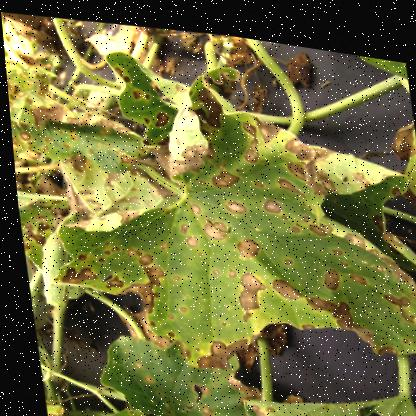AlternariaBrassicicola: (300, 279, 373, 347), (183, 324, 249, 369), (228, 259, 265, 317), (109, 272, 151, 312), (372, 277, 415, 314), (52, 259, 95, 288), (263, 264, 299, 296), (269, 165, 307, 193), (229, 226, 264, 255), (205, 158, 239, 185), (173, 214, 197, 244), (314, 254, 339, 282), (137, 260, 162, 285), (198, 211, 226, 233), (218, 189, 246, 210), (255, 187, 283, 208), (144, 101, 169, 124), (131, 245, 151, 264), (342, 259, 364, 276), (304, 212, 326, 228), (275, 245, 293, 259), (13, 129, 32, 142), (183, 195, 199, 208), (325, 235, 342, 246), (119, 242, 135, 253), (152, 235, 166, 247), (204, 259, 219, 270), (247, 169, 262, 180), (158, 306, 172, 315), (285, 214, 296, 225), (172, 298, 182, 308), (161, 326, 172, 334), (166, 268, 176, 275)
